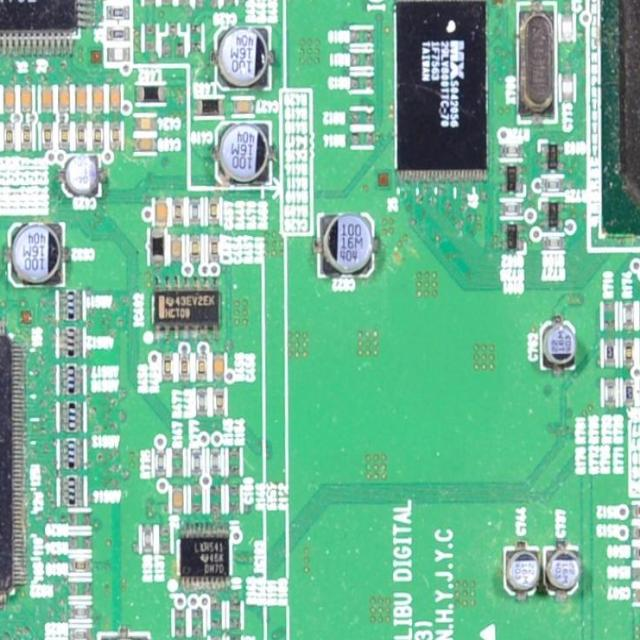IC: (395, 0, 487, 179), (586, 0, 640, 249), (0, 319, 26, 609), (0, 0, 96, 55), (151, 276, 221, 339), (182, 524, 230, 589)
capacitor: (170, 235, 182, 267), (154, 198, 168, 224), (232, 99, 253, 115), (107, 48, 129, 63), (3, 88, 16, 113), (561, 14, 573, 41), (561, 74, 573, 100), (135, 117, 157, 131), (172, 488, 184, 513), (213, 354, 224, 380), (135, 137, 155, 151), (76, 86, 88, 109), (57, 87, 69, 110), (41, 88, 52, 112), (93, 87, 104, 110), (109, 86, 120, 108), (22, 86, 32, 110), (633, 589, 640, 602)
resistor: (188, 235, 204, 262), (186, 199, 203, 224), (210, 600, 223, 628), (207, 200, 221, 226), (170, 199, 185, 223), (206, 237, 220, 262), (190, 610, 203, 636), (174, 610, 187, 636), (159, 525, 171, 553), (68, 534, 92, 548), (20, 124, 32, 152), (541, 236, 565, 250), (604, 302, 616, 330), (107, 6, 129, 21), (352, 52, 374, 67), (109, 120, 120, 150), (190, 487, 203, 512), (156, 449, 168, 476), (76, 124, 88, 151), (351, 30, 374, 44), (145, 23, 156, 52), (70, 604, 91, 619), (210, 449, 222, 475), (142, 526, 154, 552), (230, 600, 241, 628), (107, 28, 129, 42), (500, 144, 522, 158), (543, 178, 565, 192), (500, 201, 522, 215), (171, 450, 183, 475), (178, 354, 190, 379), (162, 355, 174, 380), (622, 303, 633, 330), (196, 389, 207, 416), (69, 510, 90, 524), (70, 558, 91, 572), (70, 582, 91, 596), (604, 380, 616, 404), (229, 449, 240, 475), (191, 24, 202, 50), (351, 76, 373, 89), (196, 354, 207, 380), (213, 389, 224, 415), (352, 133, 372, 147), (59, 123, 69, 150), (41, 126, 52, 150), (92, 126, 103, 150), (191, 450, 201, 476), (4, 124, 14, 150), (604, 340, 614, 366), (624, 340, 634, 366), (70, 628, 91, 640), (352, 111, 373, 123), (229, 487, 239, 512), (210, 488, 220, 513), (624, 379, 634, 404), (633, 505, 640, 517), (634, 525, 640, 539), (634, 546, 640, 560), (178, 0, 189, 7), (635, 568, 640, 582), (144, 0, 154, 5), (223, 0, 234, 4), (162, 0, 172, 4), (229, 637, 241, 640), (639, 302, 640, 327), (639, 340, 640, 365), (211, 638, 222, 640)
transistor: (158, 21, 187, 57), (540, 201, 566, 232), (540, 142, 565, 173), (500, 166, 524, 192), (501, 223, 524, 250), (193, 0, 220, 9)
